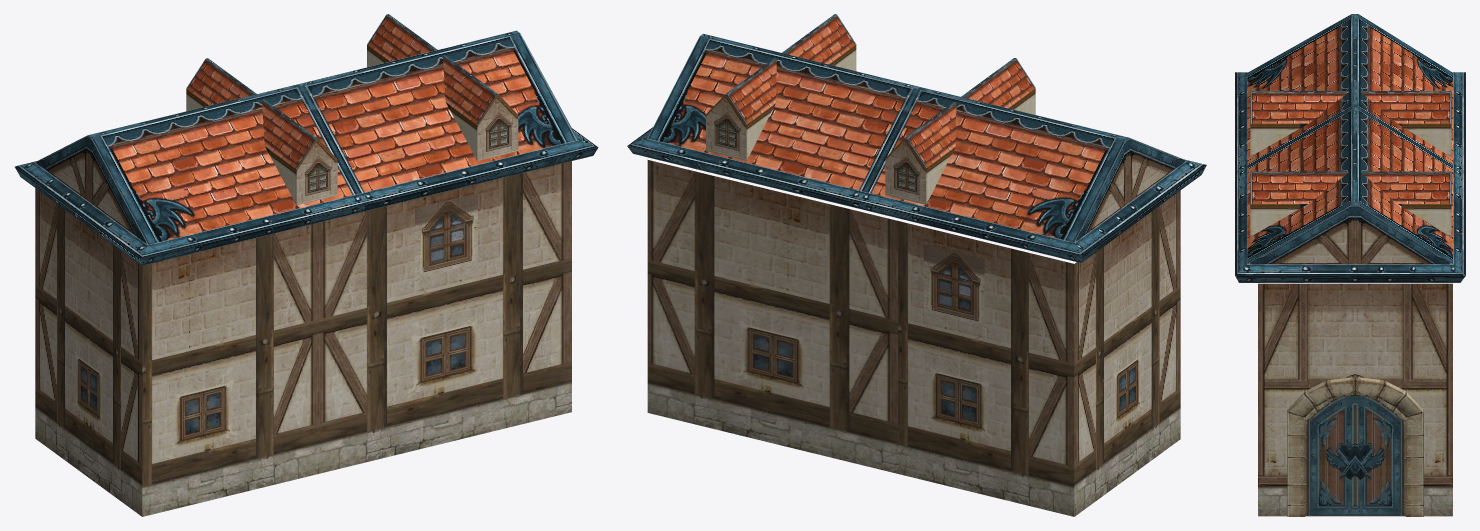
The picture shows the model from 3 angles, left to right: view 1: azimuth 30°, elevation 25°; view 2: azimuth 150°, elevation 25°; view 3: azimuth 270°, elevation 25°; orthographic projection. The views are drawn at different scales.
Parts seen in each view (by area): view 1: geom_node_0, geom_node_1; view 2: geom_node_0, geom_node_1; view 3: geom_node_1, geom_node_0.
Part boxes in pixels (x1=…): geom_node_0: x1=14, y1=58, x2=365, y2=516; geom_node_1: x1=298, y1=14, x2=598, y2=473; geom_node_0: x1=858, y1=58, x2=1206, y2=516; geom_node_1: x1=627, y1=14, x2=919, y2=473; geom_node_1: x1=1235, y1=107, x2=1465, y2=516; geom_node_0: x1=1235, y1=14, x2=1465, y2=172.
Size of the model in its own units: 8.81 by 6.28 by 4.22.
Materials: 8 (8 with a texture image).
